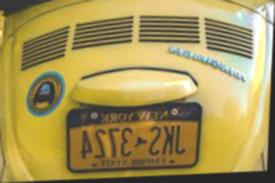License_Plate: (61, 102, 207, 174)
